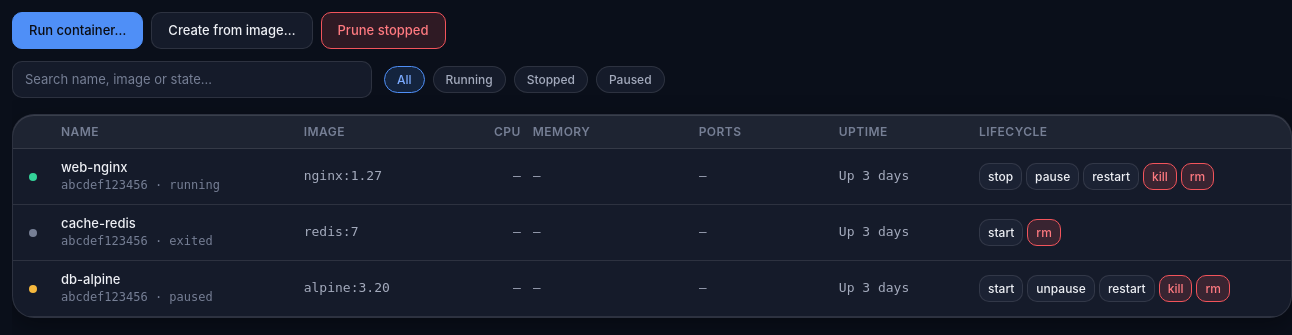
Test: ContainersScreen — text/state filtering (REQ-23) › narrows to stopped containers when the Stopped chip is active
Click the button "Stopped".
click(551, 79)  # box left=514, top=66, right=588, bottom=93
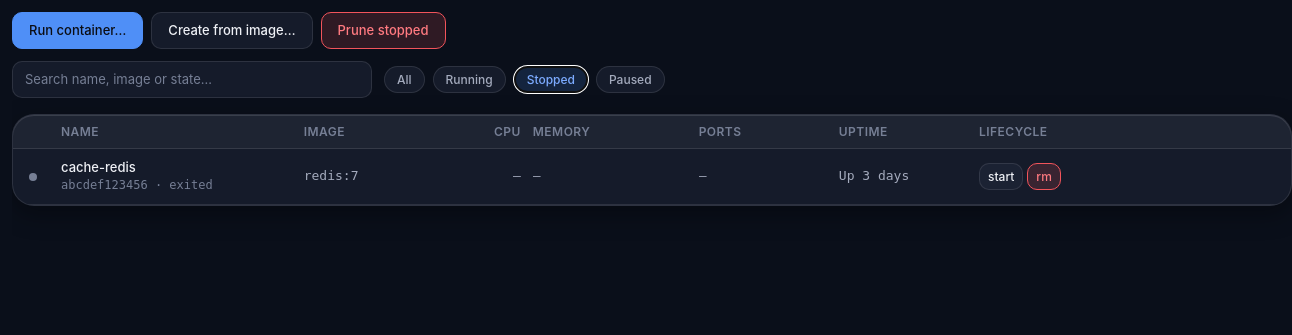
Expected: the text "cache-redis" is shown, left=61, top=160, right=136, bottom=176
Expected: the text "web-nginx" is gone
Expected: the text "db-alpine" is gone
